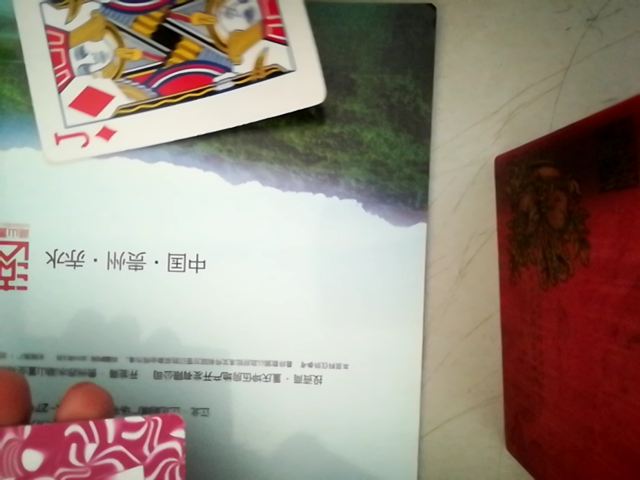fk j: (13, 0, 325, 158)
